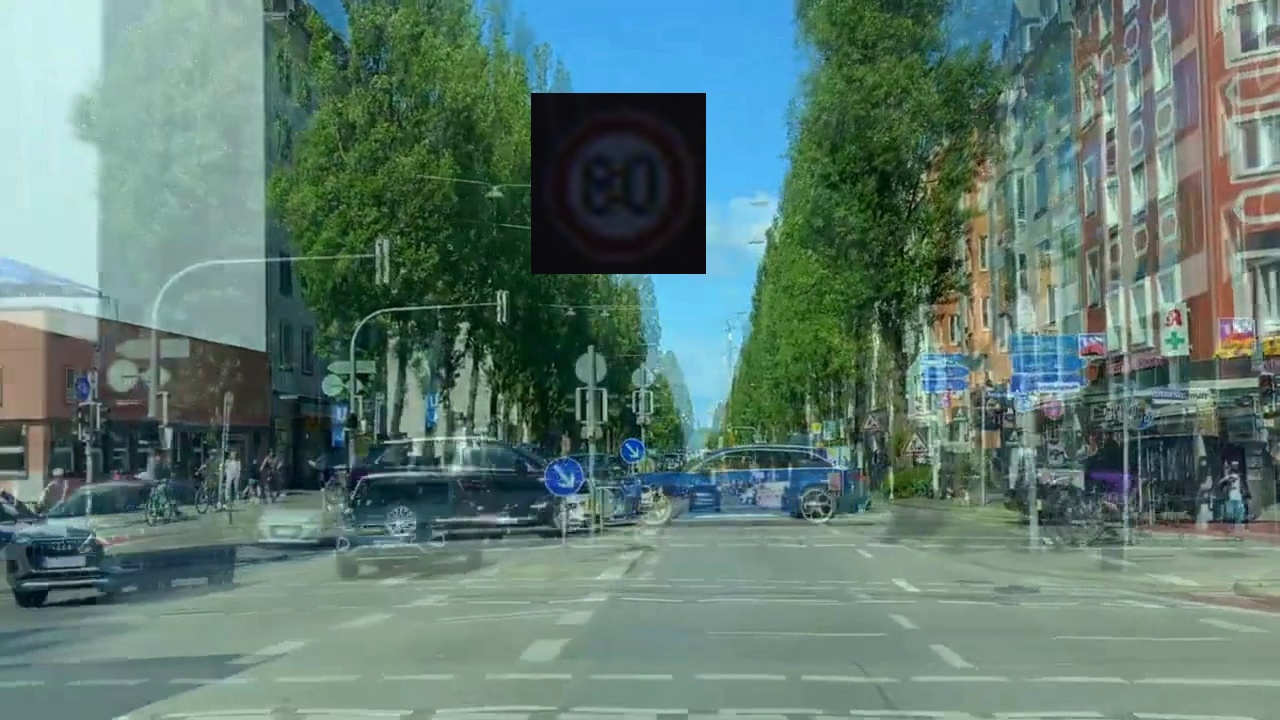Speed 80: (531, 93, 706, 274)
